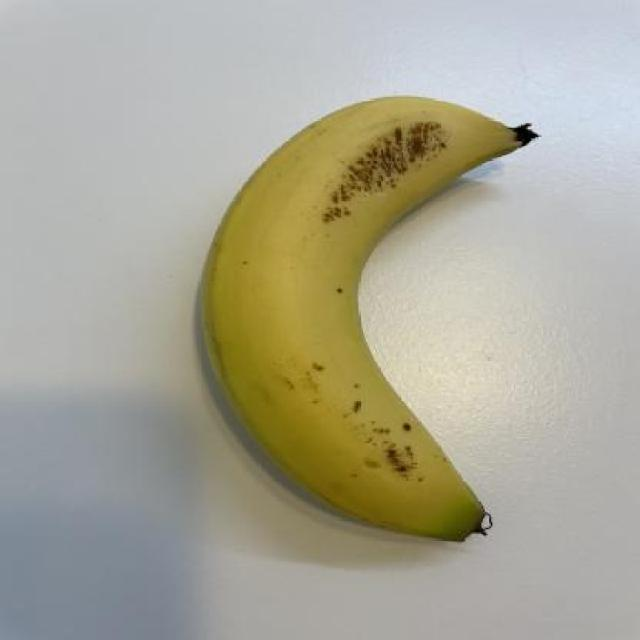banana: (197, 89, 545, 548)
